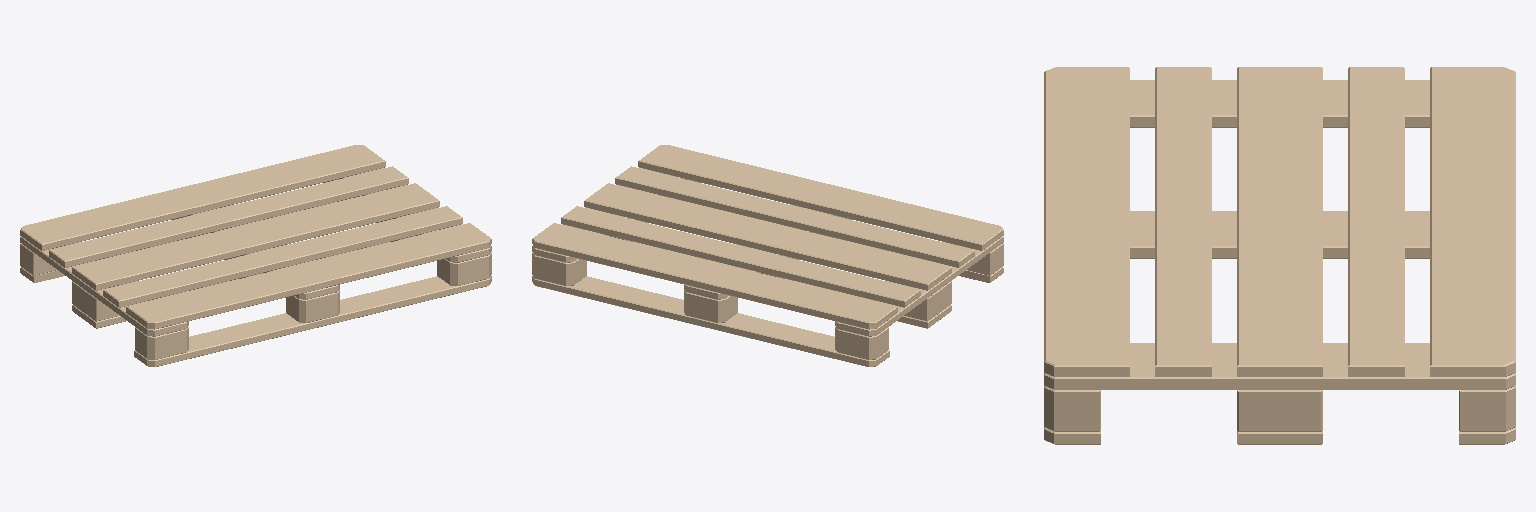
The robot description file, URDF, robot "europalette":
<?xml version="1.0" encoding="utf-8"?>
<!-- This URDF was automatically created by SolidWorks to URDF Exporter! Originally created by [author] ([email redacted]) 
     Commit Version: 1.6.0-4-g7f85cfe  Build Version: 1.6.7995.38578
     For more information, please see http://wiki.ros.org/sw_urdf_exporter -->


<robot name="europalette">

	<link name="world" />

	<joint name="fixed" type="fixed">
		<parent link="world"/>
		<child link="base_link"/>
		<origin xyz="-2 -2 0.0" rpy="0.0 0.0 0"/>
	</joint>

  <link name="base_link">
    <inertial>
      <origin xyz="0 0 0" rpy="0 0 0" />
      <mass value="45.11865" />
      <inertia ixx="3.1330716772058" ixy="-3.52248840062748E-17" ixz="9.836549879291E-19" iyy="0.462522380993745" iyz="6.13082306634959E-18" izz="3.58108726709954" />
    </inertial>
    <visual>
      <origin xyz="0 0 0" rpy="0 0 0" />
      <geometry>
        <mesh filename="package://environment/meshes/europalette/Europoolpalette_scaled.stl" />
      </geometry>
      <material name="">
        <color rgba="0.894117647058823 0.803921568627451 0.690196078431373 1" />
      </material>
    </visual>
    <collision>
      <origin xyz="0 0 0" rpy="0 0 0" />
      <geometry>
        <mesh filename="package://environment/meshes/europalette/Europoolpalette_scaled.stl" />
      </geometry>
    </collision>
  </link>

  <gazebo>
    <plugin name="gazebo_ros_control" filename="libgazebo_ros_control.so">
      <robotNamespace>/europalette</robotNamespace> 
    </plugin>

    <plugin name="gazebo_ros_p3d" filename="libgazebo_ros_p3d.so">
      <robotNamespace>/europalette</robotNamespace>
      <bodyName>base_link</bodyName>
      <frameName>world</frameName>
      <updateRate>50.0</updateRate>
      <topicName>/europalette/tf</topicName> 
    </plugin>
  </gazebo>

</robot>


--- What the picture shows (computed from the rendered views, not written in the file) ---
3 views of the same robot in one strip: view 1: azimuth 30°, elevation 25°; view 2: azimuth 150°, elevation 25°; view 3: azimuth 270°, elevation 25° (orthographic).
Robot: europalette — 2 links, 1 joints (1 fixed); root link world; default pose: all joints at 0.
Links seen in each view (by area): view 1: base_link; view 2: base_link; view 3: base_link.
Boxes of the visible links, x1,y1,x2,y2 form: base_link: (20, 145, 491, 366); base_link: (532, 145, 1003, 366); base_link: (1044, 67, 1515, 444).
Bounding box of the posed robot: 0.5 × 0.3333 × 0.0625 m (x, y, z).
1 mesh visuals loaded from 1 distinct referenced files (1 binary STL).